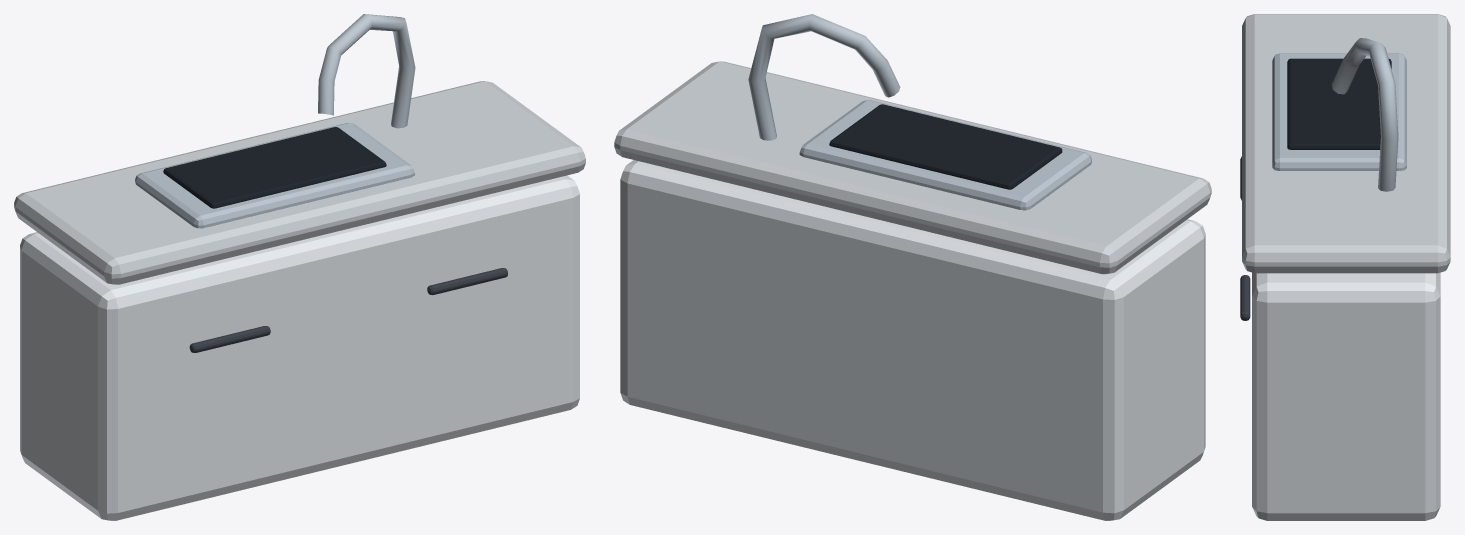
File: utility-sink.glb
3 renders of one model, left to right at view 1: azimuth 30°, elevation 25°; view 2: azimuth 150°, elevation 25°; view 3: azimuth 270°, elevation 25°, orthographic. The views are drawn at different scales.
Parts seen in each view (by area): view 1: sink · Warm white, sink · Quartz stone, sink · Brushed aluminum, sink · Soft black, sink · Graphite metal; view 2: sink · Warm white, sink · Quartz stone, sink · Brushed aluminum, sink · Soft black; view 3: sink · Warm white, sink · Quartz stone, sink · Brushed aluminum, sink · Soft black, sink · Graphite metal.
Part boxes in pixels (x1,y1,x2,y2): sink · Warm white: (20,175,579,520); sink · Quartz stone: (14,81,585,284); sink · Brushed aluminum: (135,14,415,228); sink · Soft black: (163,127,386,208); sink · Graphite metal: (189,268,507,352); sink · Warm white: (620,160,1205,520); sink · Quartz stone: (614,61,1211,274); sink · Brushed aluminum: (748,14,1091,210); sink · Soft black: (829,104,1062,189); sink · Warm white: (1252,272,1440,520); sink · Quartz stone: (1242,14,1450,273); sink · Brushed aluminum: (1272,38,1406,191); sink · Soft black: (1287,58,1391,149); sink · Graphite metal: (1240,156,1250,320).
Bounding box in the file's own units: 1.7 × 1.33 × 0.625.
